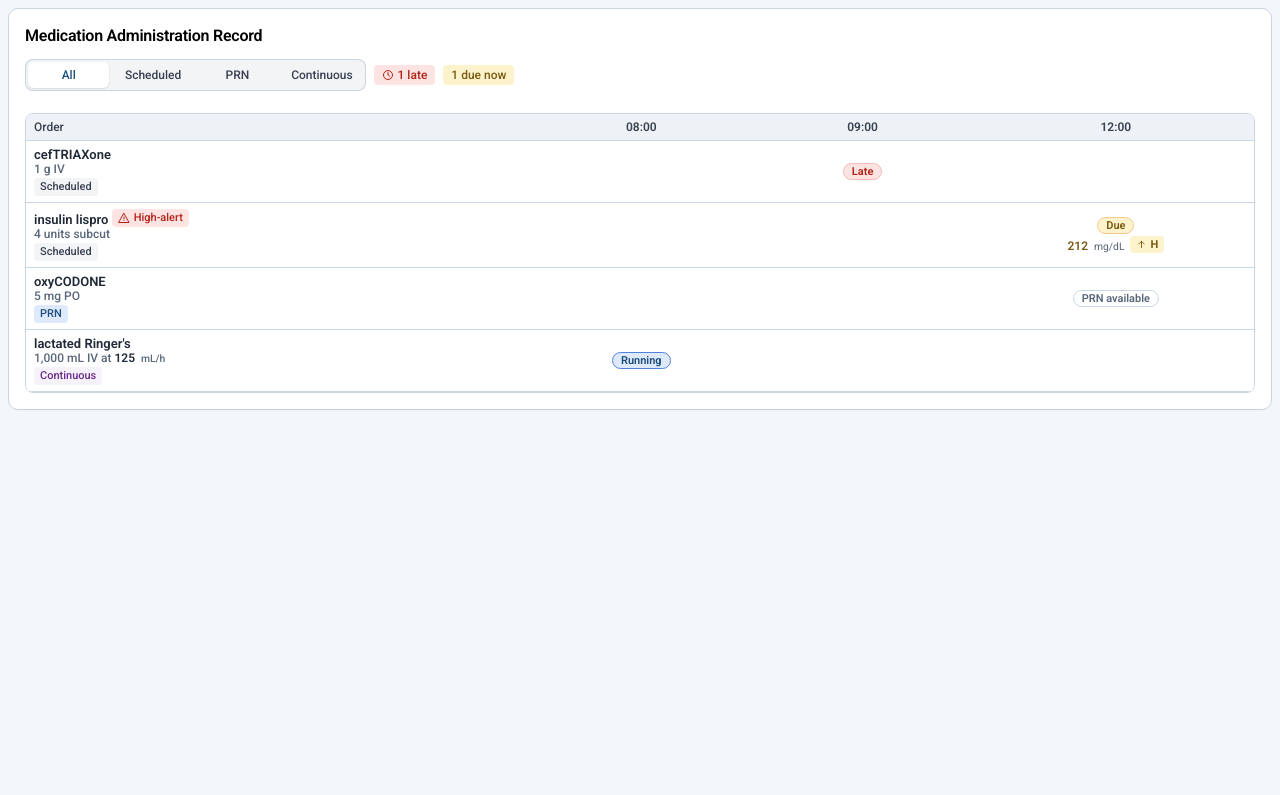
Scenario: MAR › runs the administration flow: two scans unlock Given, which records the dose
The width and height of the screenshot is (1280, 795).
Click the button with aria-label "Administer cefTRIAXone 09:00, Late" at (863, 172), box x1=819 y1=159 x2=907 y2=184
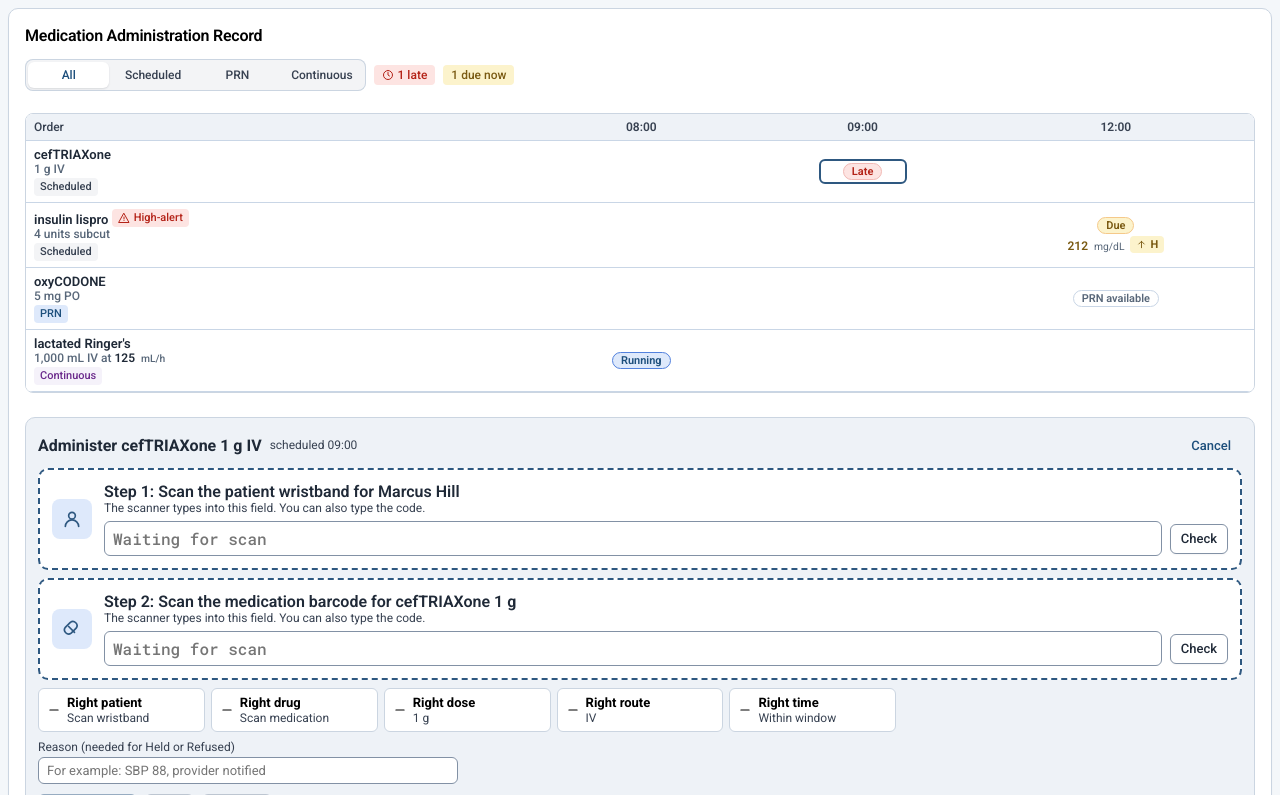
Type "MRN0048213" into the field named "patient wristband" at (633, 538), box x1=104 y1=521 x2=1162 y2=556
Then press Enter
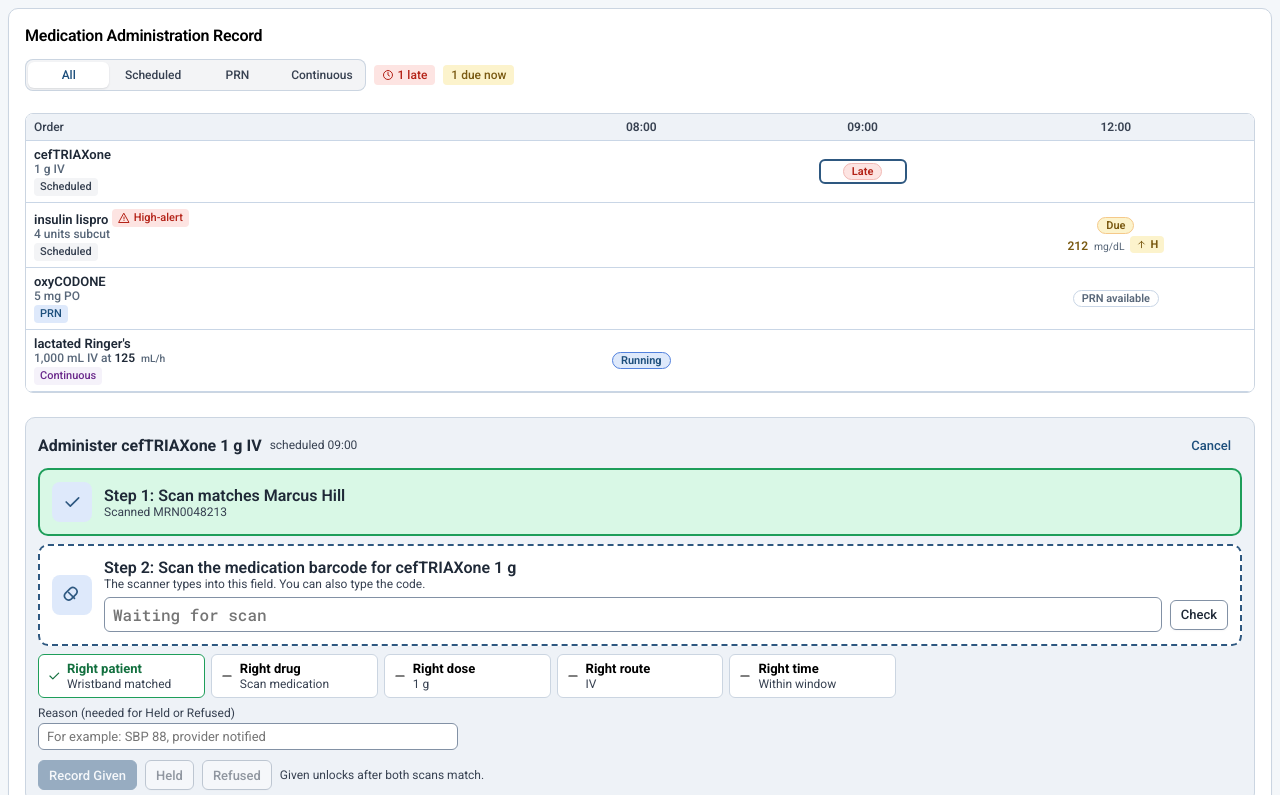
Check: the button "Record Given" is disabled, box x1=38 y1=760 x2=137 y2=790
Type "NDC0409-7332" into the field named "medication barcode" at (633, 614), box x1=104 y1=597 x2=1162 y2=632
Then press Enter
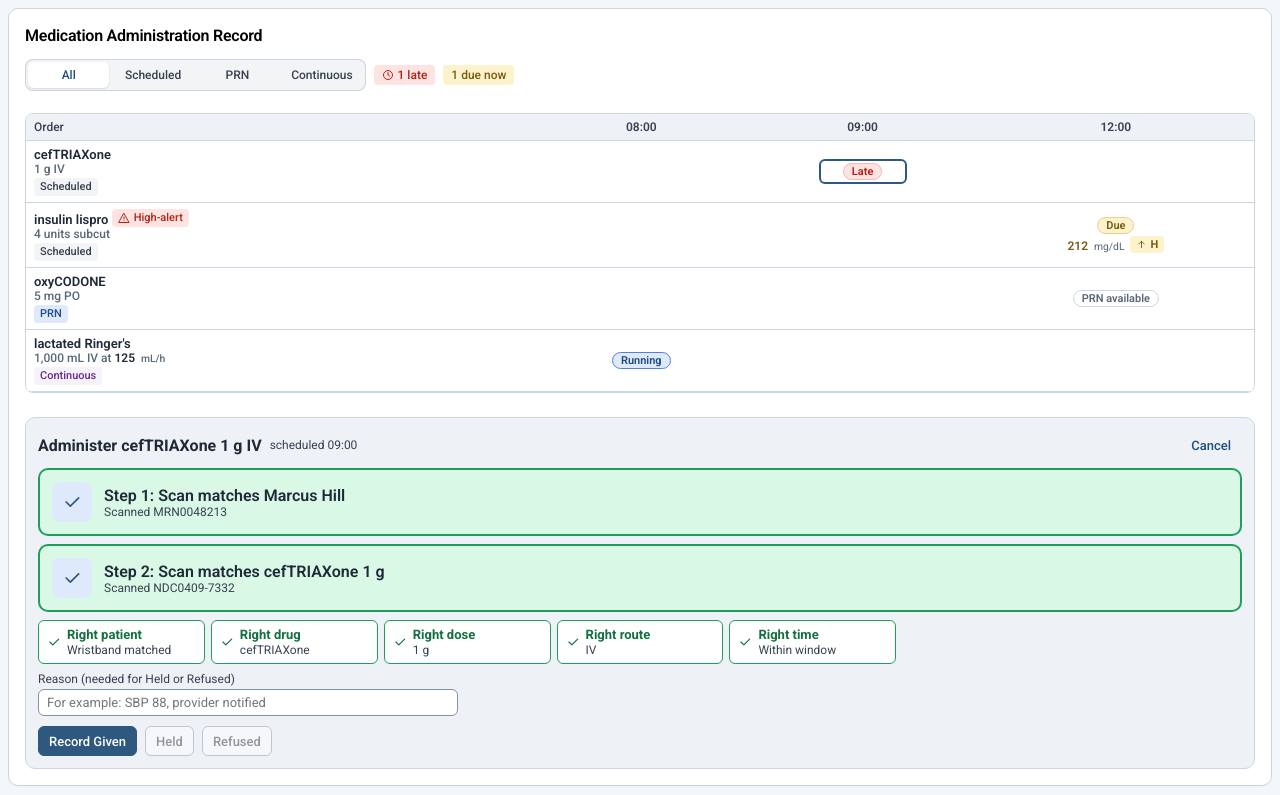
Check: the button "Record Given" is enabled
Click the button "Record Given" at (88, 741), box x1=38 y1=726 x2=137 y2=756
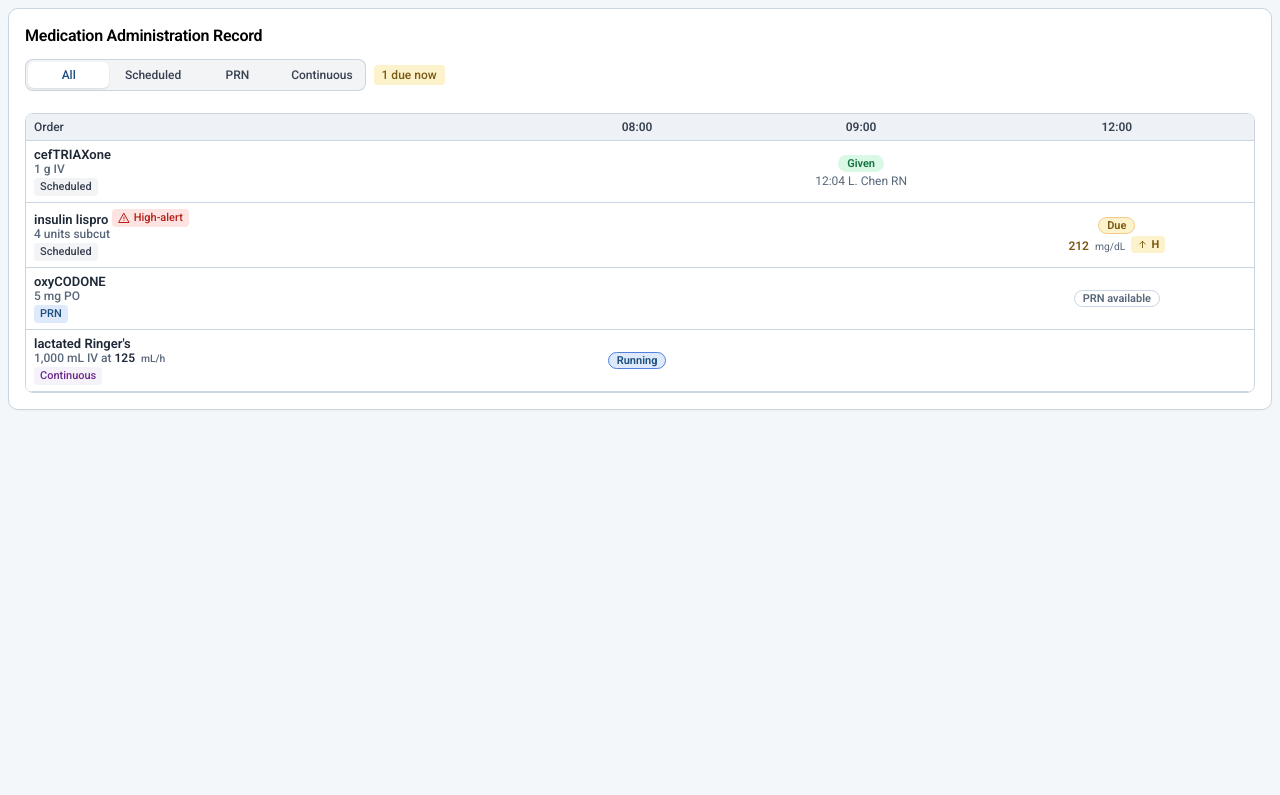
Check: the text "Administer cefTRIAXone" is gone
Check: the text "12:04 L. Chen RN" is shown, box x1=815 y1=174 x2=907 y2=188
Check: the text "1 late" is gone
